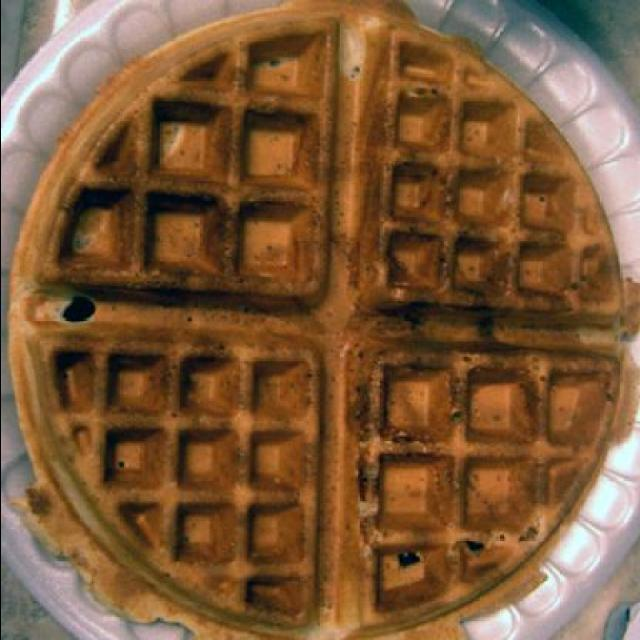Waffle: (2, 0, 640, 638)
